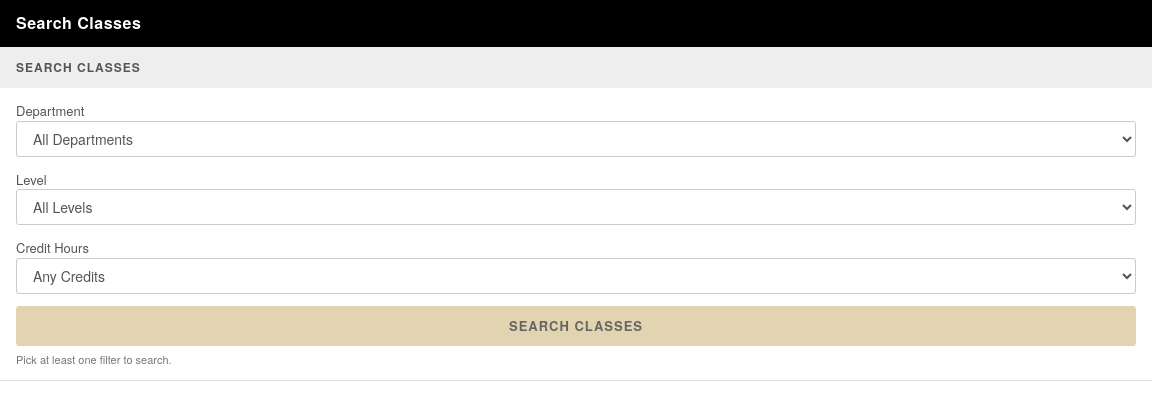
FilterBar › enables SEARCH once any one filter is chosen (dept)
Select "CSCI — Computer Science" in the dropdown with id "filter-dept". click: (576, 138)
box: [16, 120, 1136, 156]
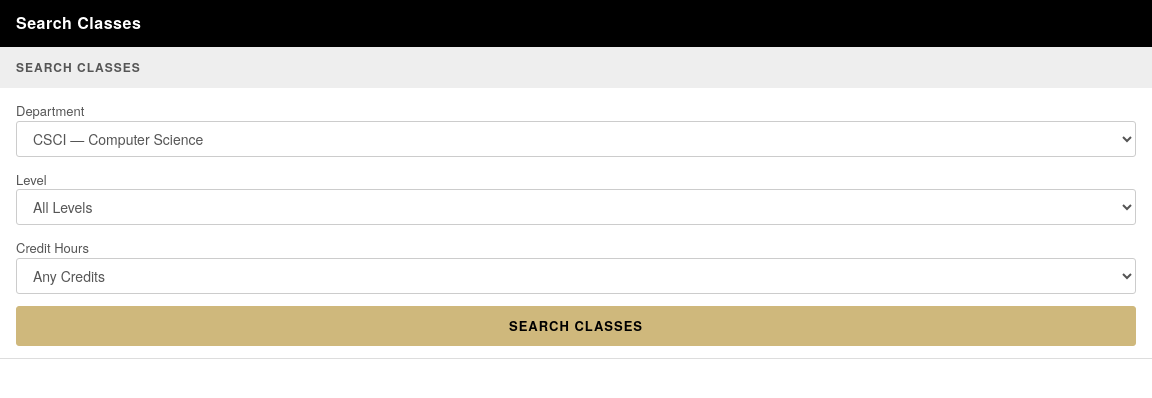
Expected: the button with test id "search-btn" is enabled, [16, 306, 1136, 346]
